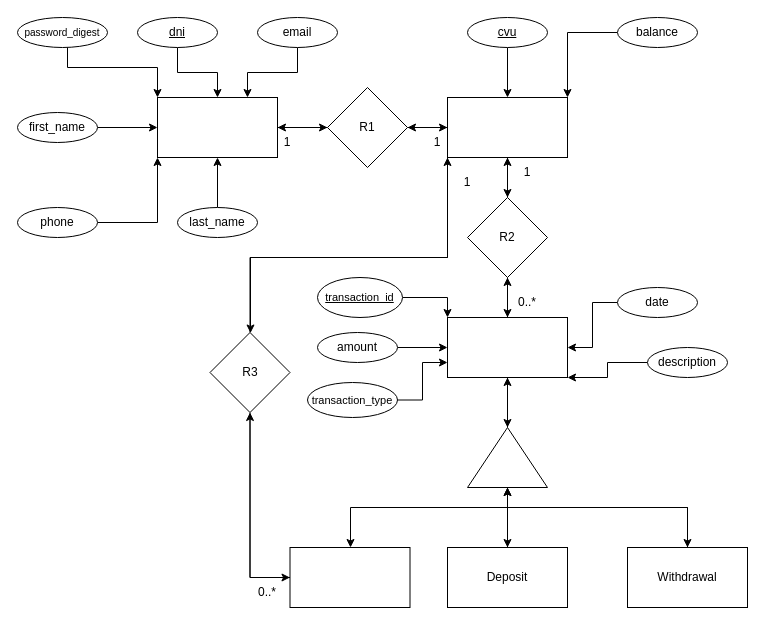
Image size: 765x625. Some labels were removed from this diagram. Here are the shapes that lost their labels. From the top down, the centre of each, then its label:
At point 217,127: "User".
At point 507,127: "Account".
At point 507,347: "Transaction".
At point 349,577: "Transfer".
